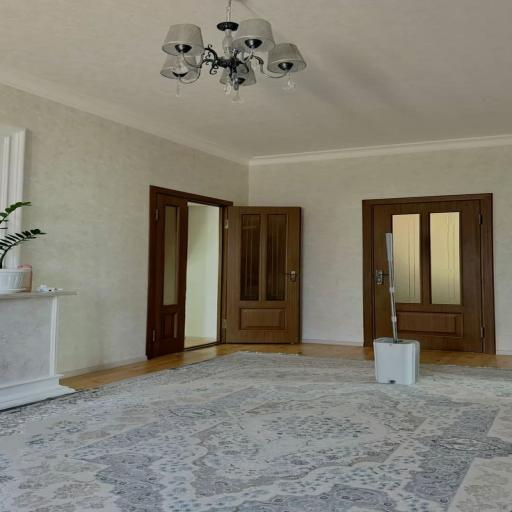corridor: (363, 194, 495, 353), (224, 207, 301, 344)
